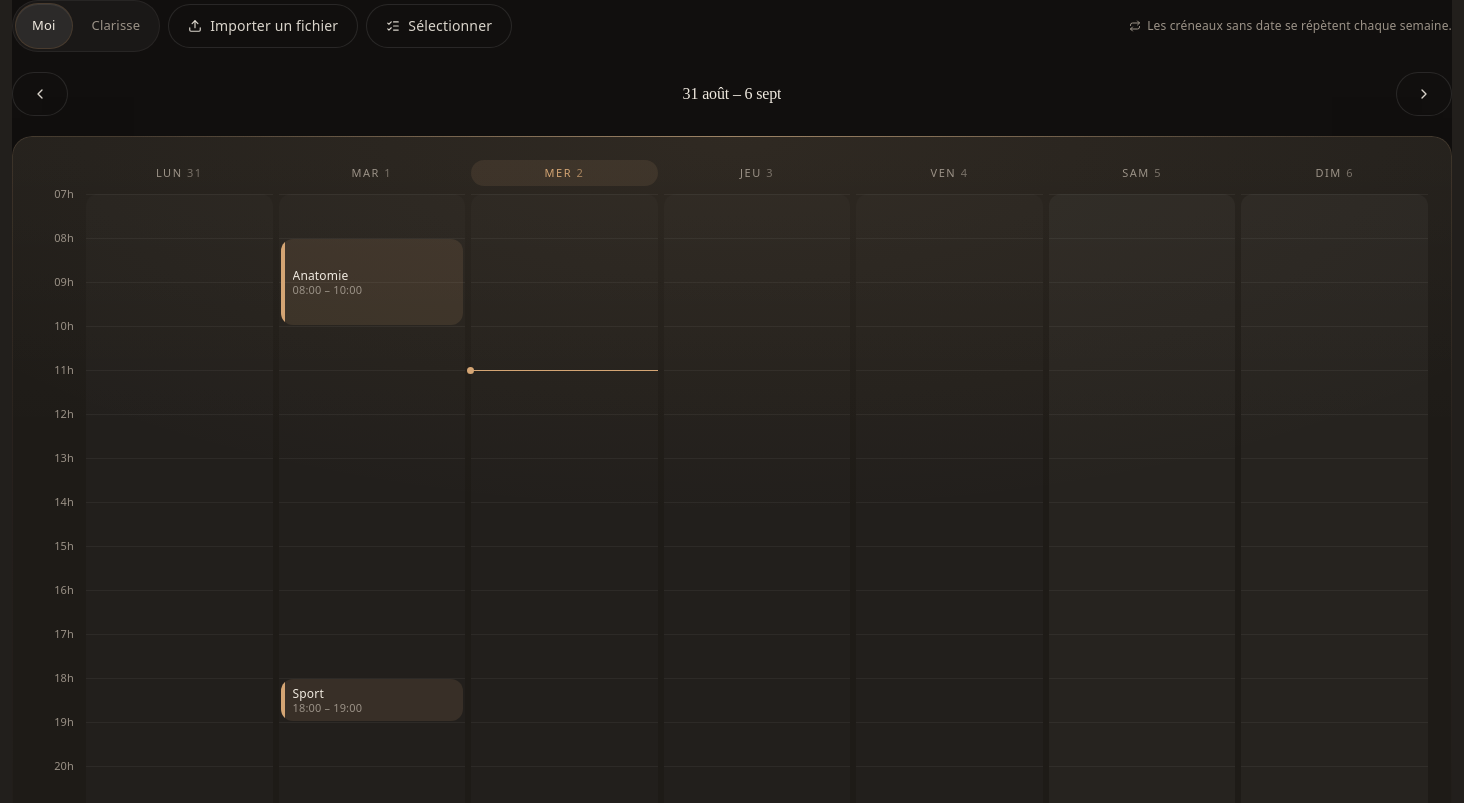
Scenario: Emploi du temps — semaines et dates › propose de revenir à cette semaine, et seulement quand on l’a quittée
This screenshot has width=1464, height=803.
Expected: the button "Revenir à cette semaine" is not shown
Click the button named "Semaine suivante" at (1424,94), box [1396, 72, 1452, 116]
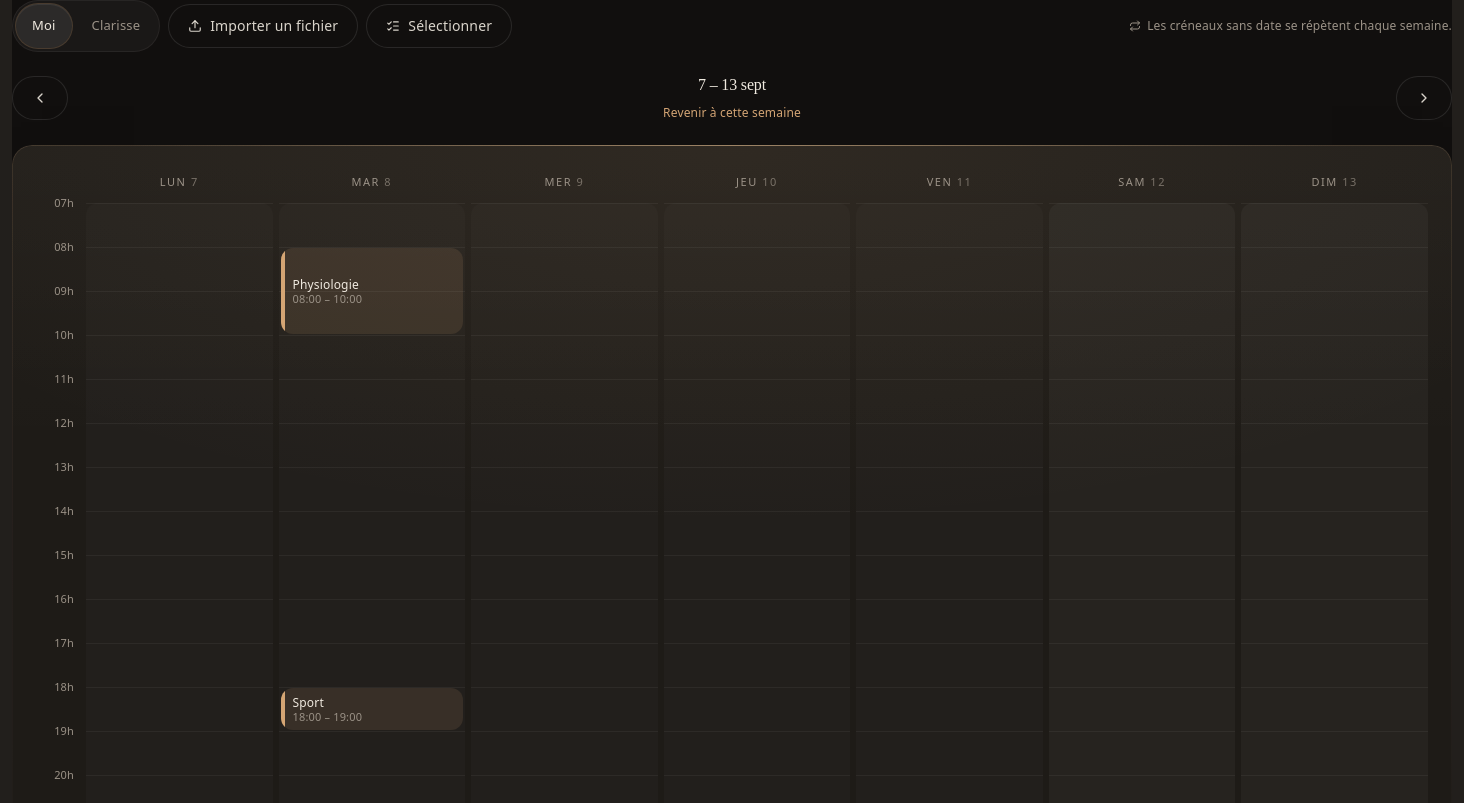
Click the button "Revenir à cette semaine" at (732,113), box [663, 103, 801, 123]
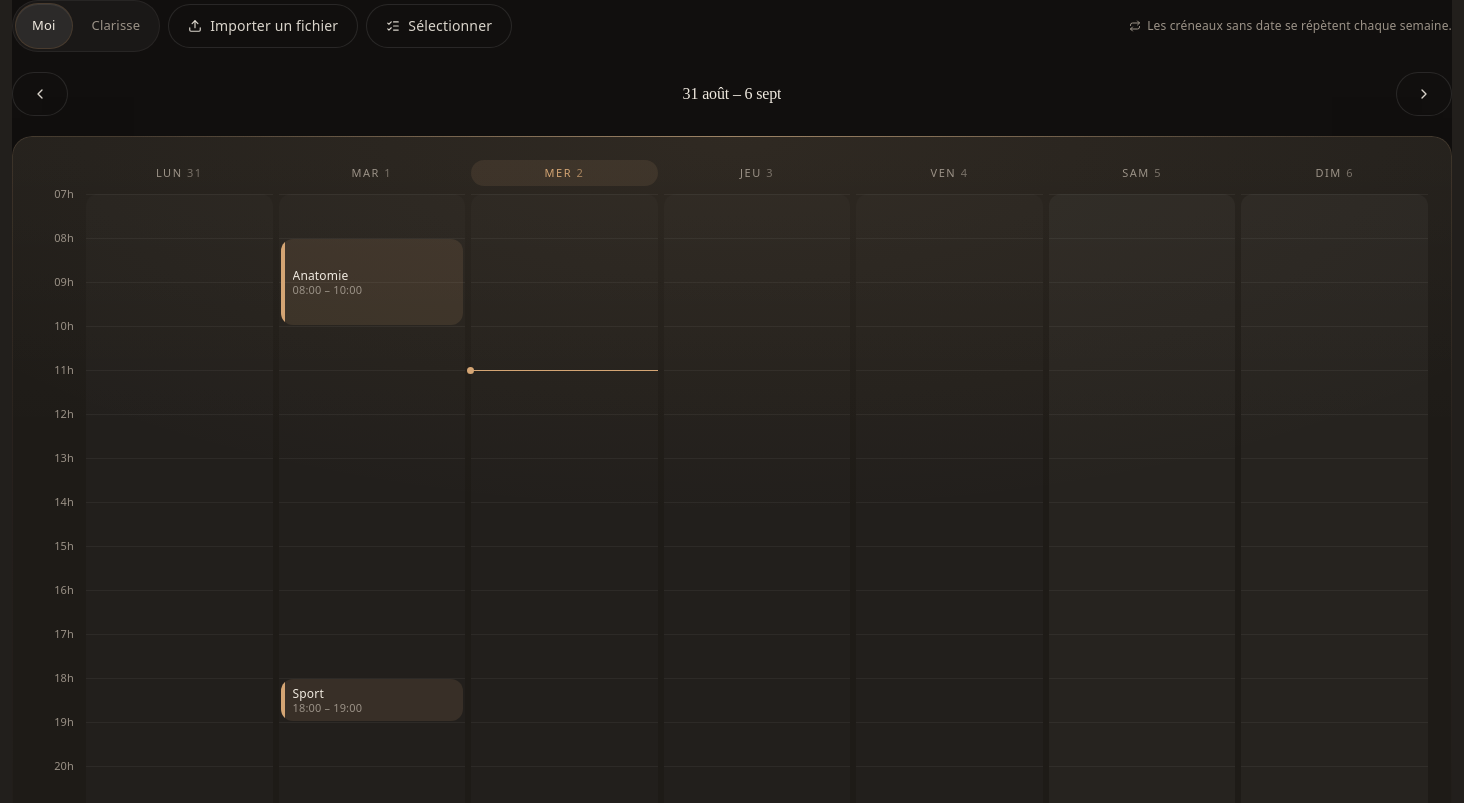
Result: the button "Revenir à cette semaine" is gone
